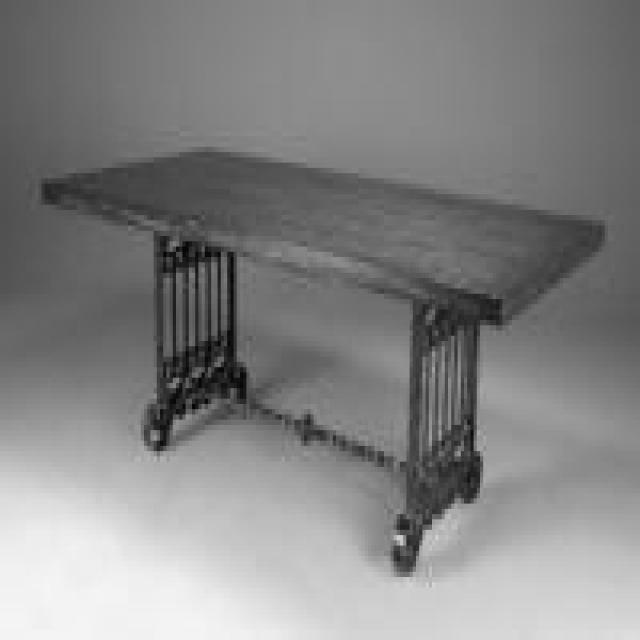table: (42, 145, 608, 570)
